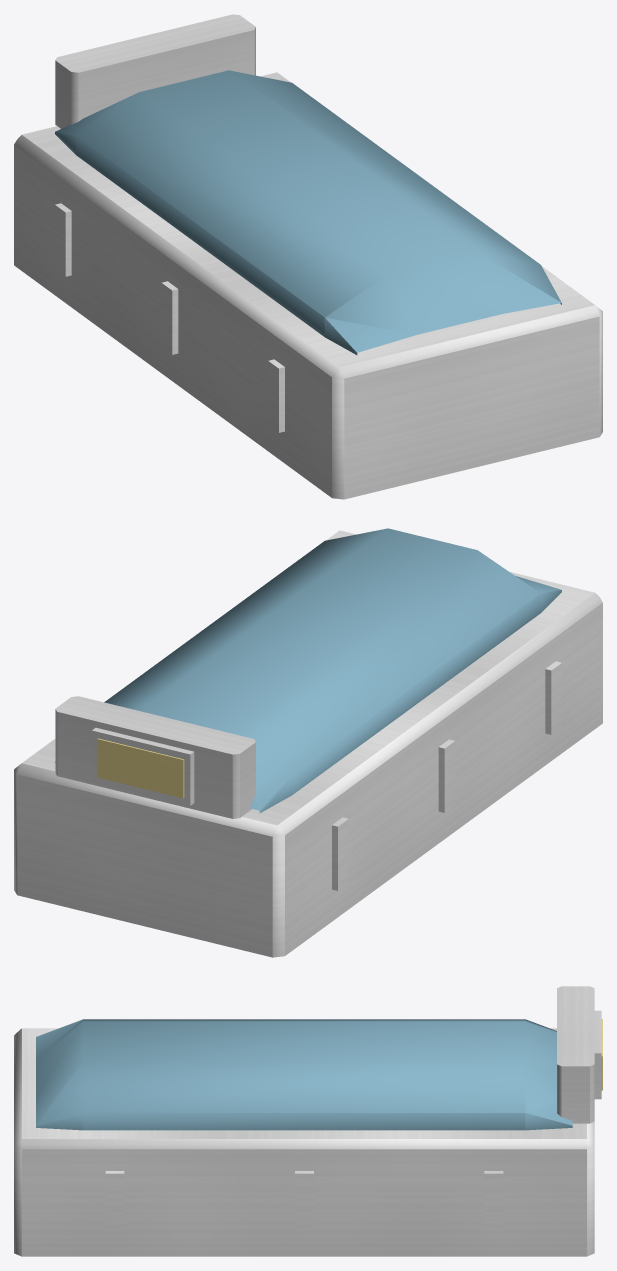
The model's file is cryptosleep_casket.obj.
The picture shows the model from 3 angles, top to bottom: view 1: azimuth 30°, elevation 25°; view 2: azimuth 150°, elevation 25°; view 3: azimuth 270°, elevation 25°; orthographic projection. The views are drawn at different scales.
Parts seen in each view (by area): view 1: casket_base, retained_5, head_control_housing, retained_73, retained_68, retained_78; view 2: casket_base, retained_5, head_control_housing, retained_63, retained_58, retained_73, retained_68, retained_78; view 3: casket_base, retained_5, head_control_housing, retained_68, retained_78, retained_73, retained_58.
Part boxes in pixels (x1,y1,x2,y2): casket_base: [14, 72, 602, 499]; retained_5: [55, 70, 561, 354]; head_control_housing: [55, 14, 255, 128]; retained_73: [161, 281, 178, 354]; retained_68: [268, 359, 284, 432]; retained_78: [55, 203, 71, 276]; casket_base: [14, 530, 602, 957]; retained_5: [55, 528, 561, 812]; head_control_housing: [55, 696, 255, 818]; retained_63: [97, 738, 184, 798]; retained_58: [92, 727, 194, 805]; retained_73: [438, 739, 455, 812]; retained_68: [545, 661, 561, 734]; retained_78: [332, 817, 348, 890]; casket_base: [14, 1028, 594, 1256]; retained_5: [36, 1019, 572, 1130]; head_control_housing: [557, 986, 594, 1123]; retained_68: [105, 1171, 124, 1230]; retained_78: [484, 1171, 503, 1230]; retained_73: [295, 1171, 313, 1230]; retained_58: [594, 1010, 601, 1099].
Bounding box in the file's own units: 0.92 × 0.6 × 1.87.
